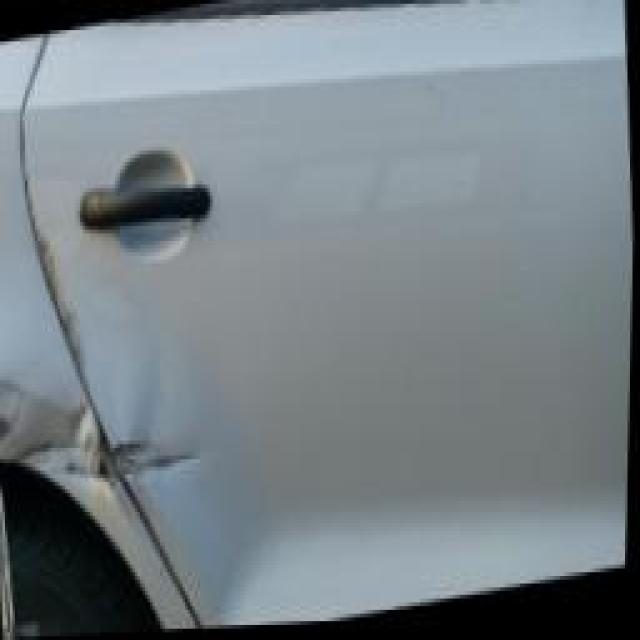Door: (95, 200, 243, 488)
Fender: (0, 256, 120, 536)
